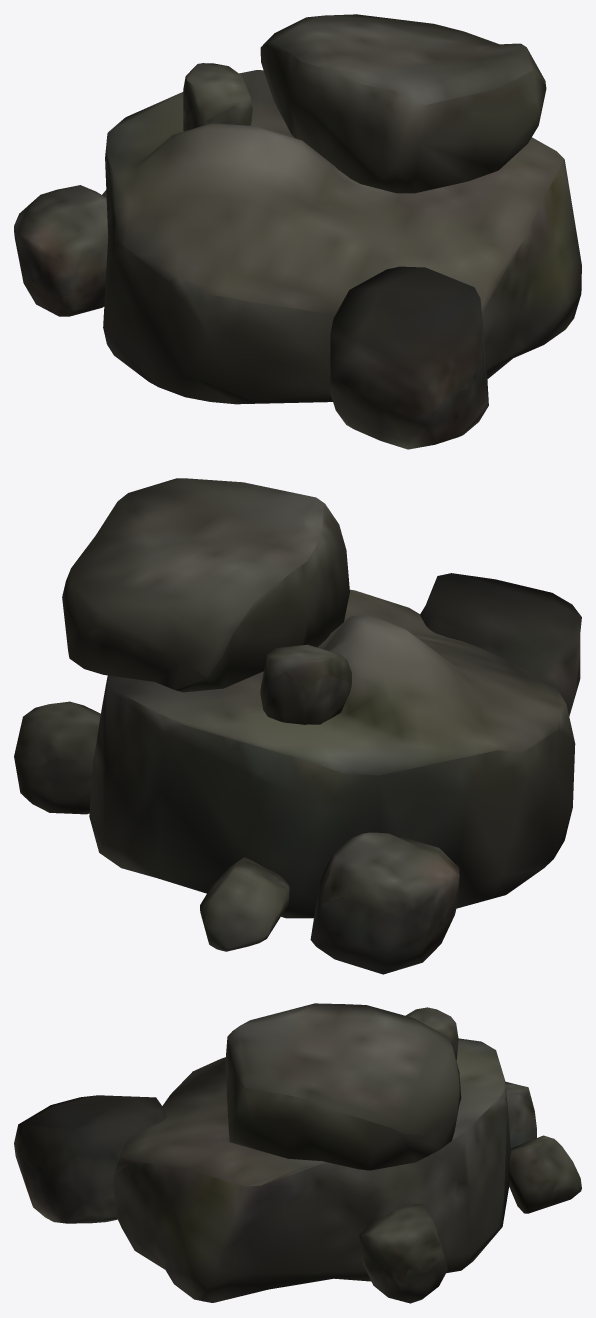
File: rock-cluster.lod0.glb
3 views of the same model, one above another, from view 1: azimuth 30°, elevation 25°; view 2: azimuth 150°, elevation 25°; view 3: azimuth 270°, elevation 25° (orthographic). The views are drawn at different scales.
Parts seen in each view (by area): view 1: smallrockcluster_cliffs_0; view 2: smallrockcluster_cliffs_0; view 3: smallrockcluster_cliffs_0.
Boxes of the visible parts, x1=… form: smallrockcluster_cliffs_0: x1=14, y1=14, x2=581, y2=449; smallrockcluster_cliffs_0: x1=14, y1=478, x2=581, y2=974; smallrockcluster_cliffs_0: x1=14, y1=1003, x2=581, y2=1303.
Size of the model in its own units: 3.77 by 2.24 by 4.99.
Materials: 1 (1 with a texture image).
